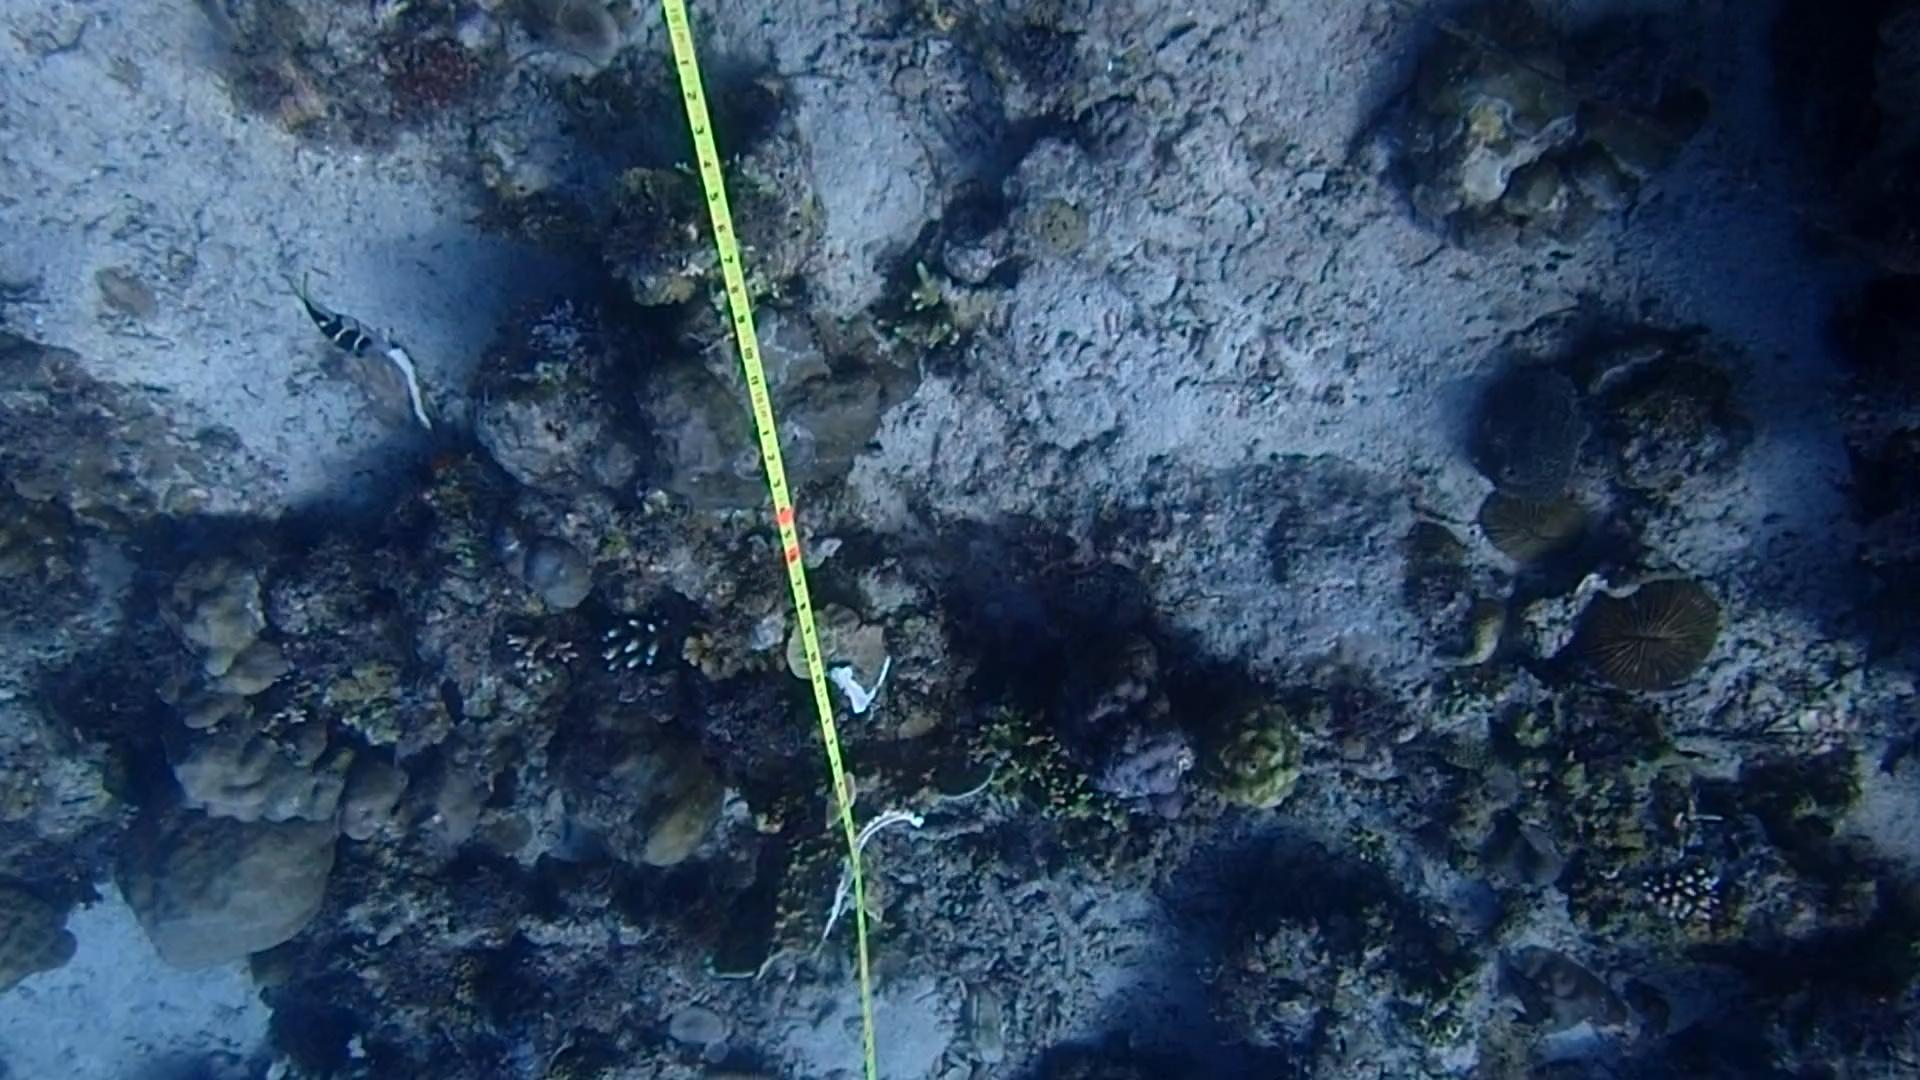Striped Fish: (298, 281, 375, 377)
